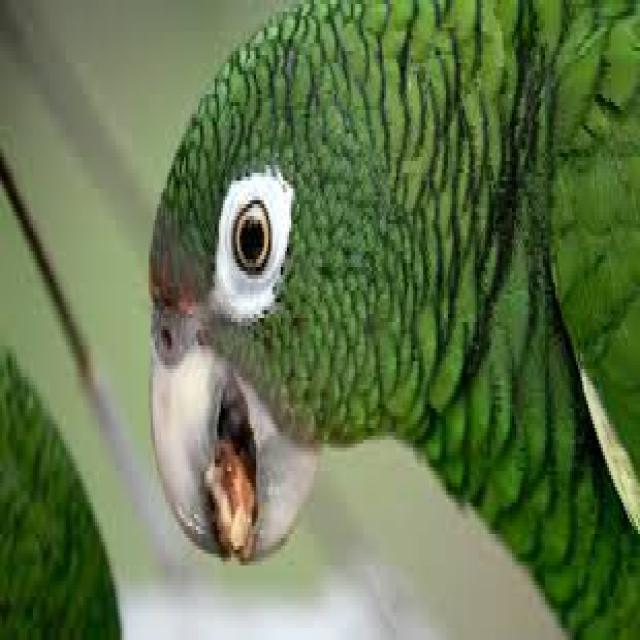Parrot: (144, 4, 640, 586)
